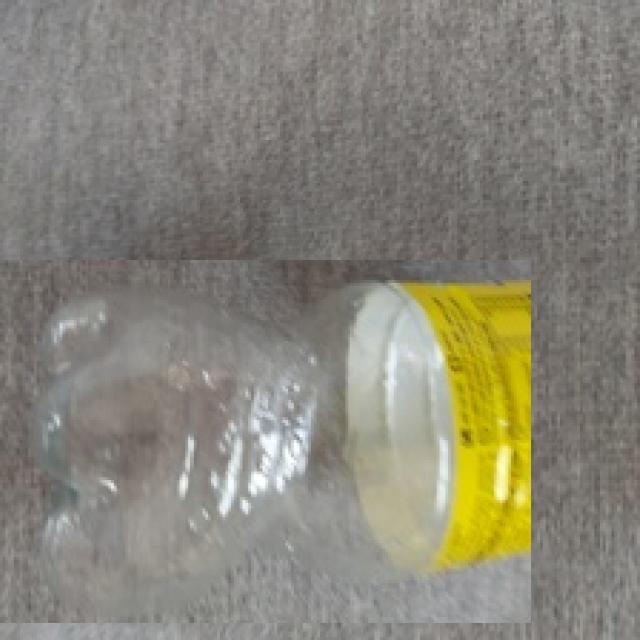BIODEGRADABLE: (0, 260, 531, 623)
